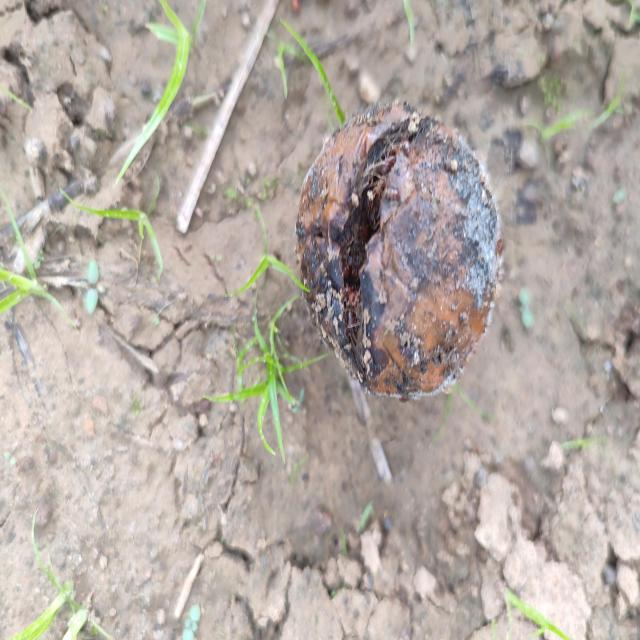damaged: (293, 104, 504, 402)
